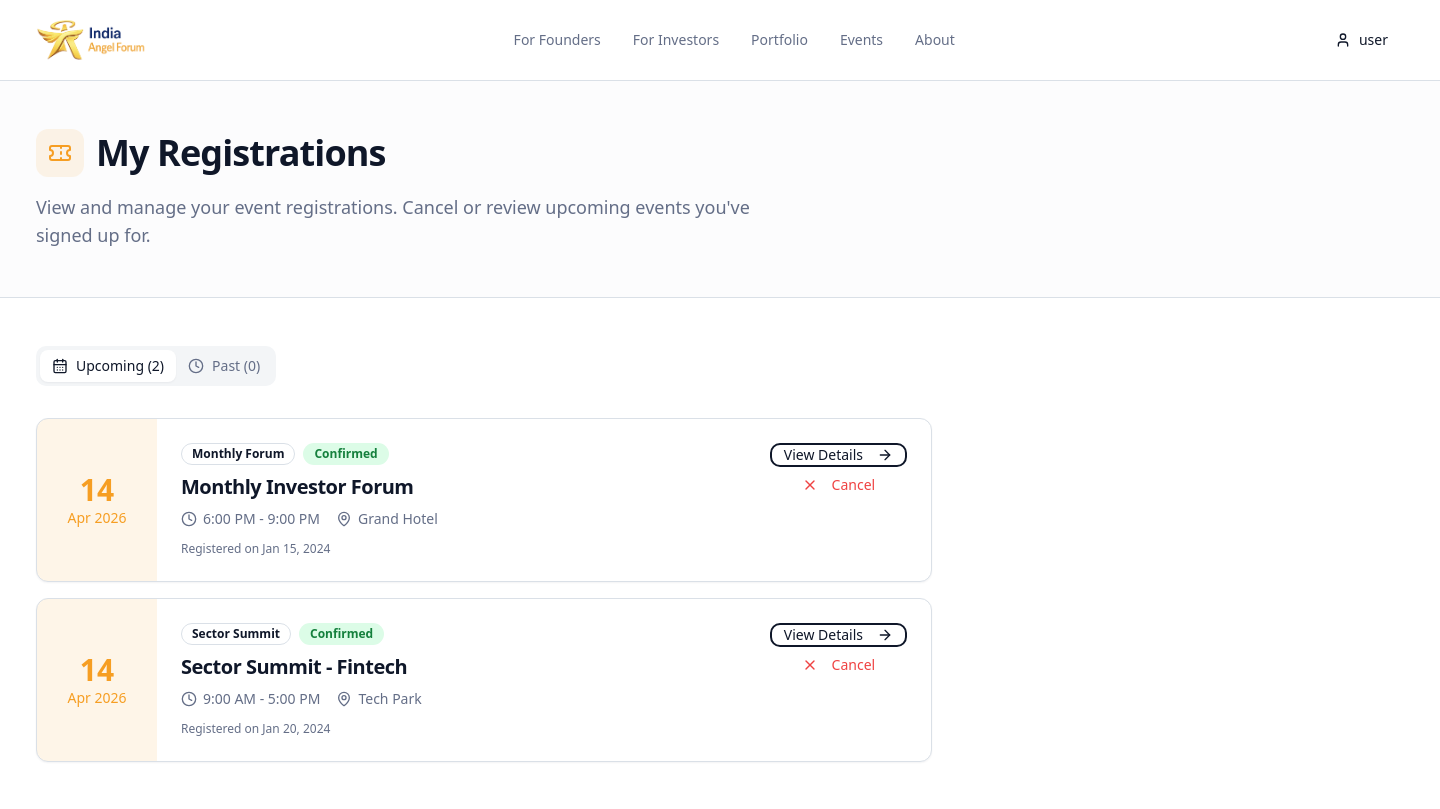
MyRegistrations Page › Empty States › should show empty state when no past registrations
This screenshot has width=1440, height=809.
Expected: the link "Monthly Investor Forum" is shown, [181,473,414,500]
Click the tab "Past (0)": [224, 366] box [176,350,272,382]
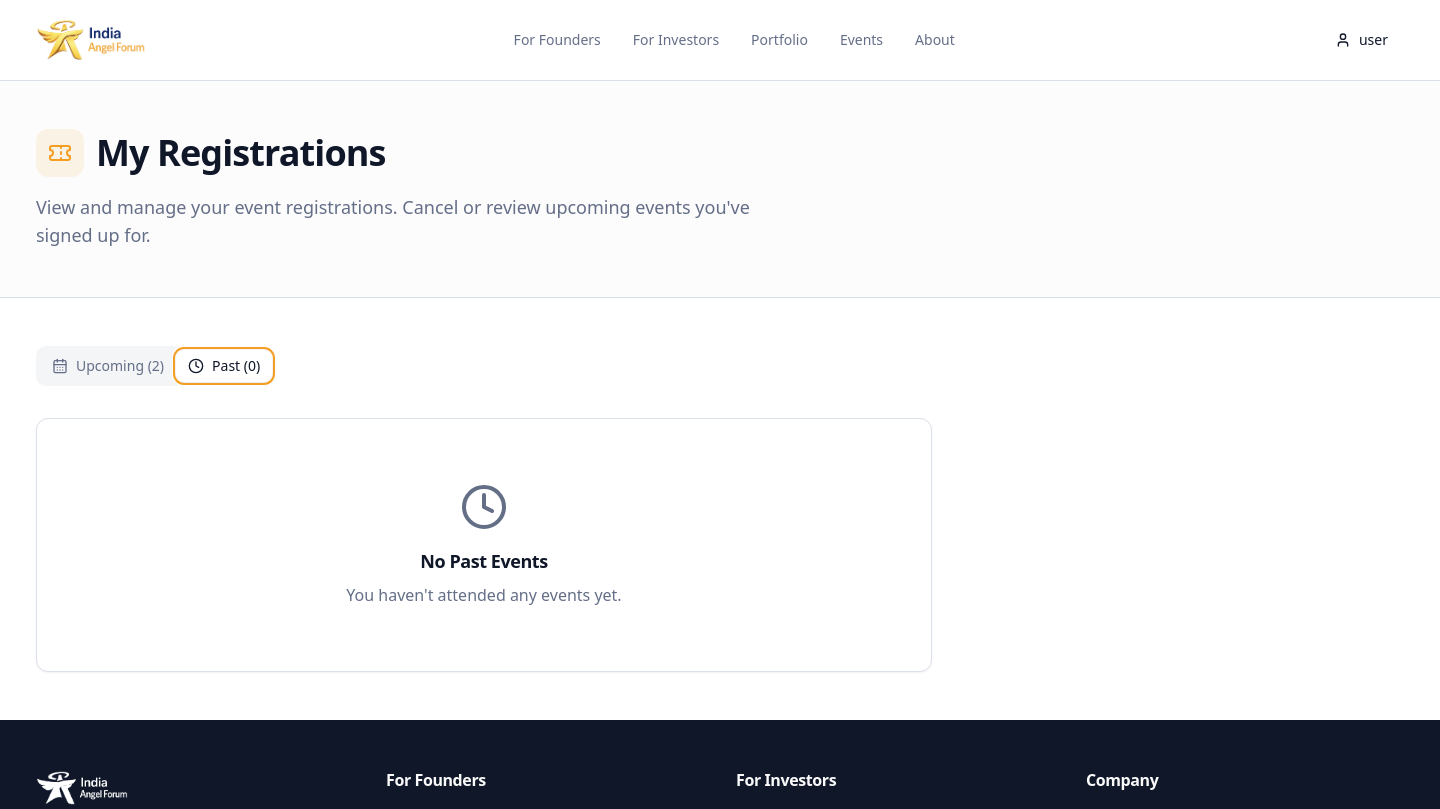
Expected: the heading "No Past Events" is shown, [420,549,548,573]
